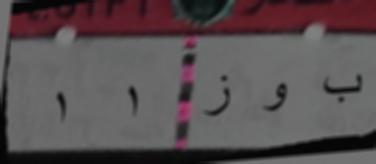1: (120, 80, 150, 127), (48, 82, 76, 131)
baa: (320, 69, 366, 108)
waw: (258, 77, 292, 123)
zay: (200, 67, 235, 126)
